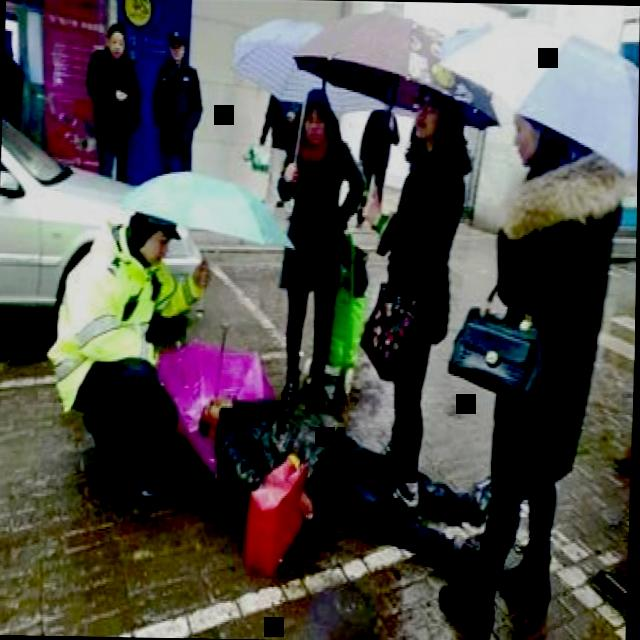Fall-Detected: (181, 364, 508, 582)
